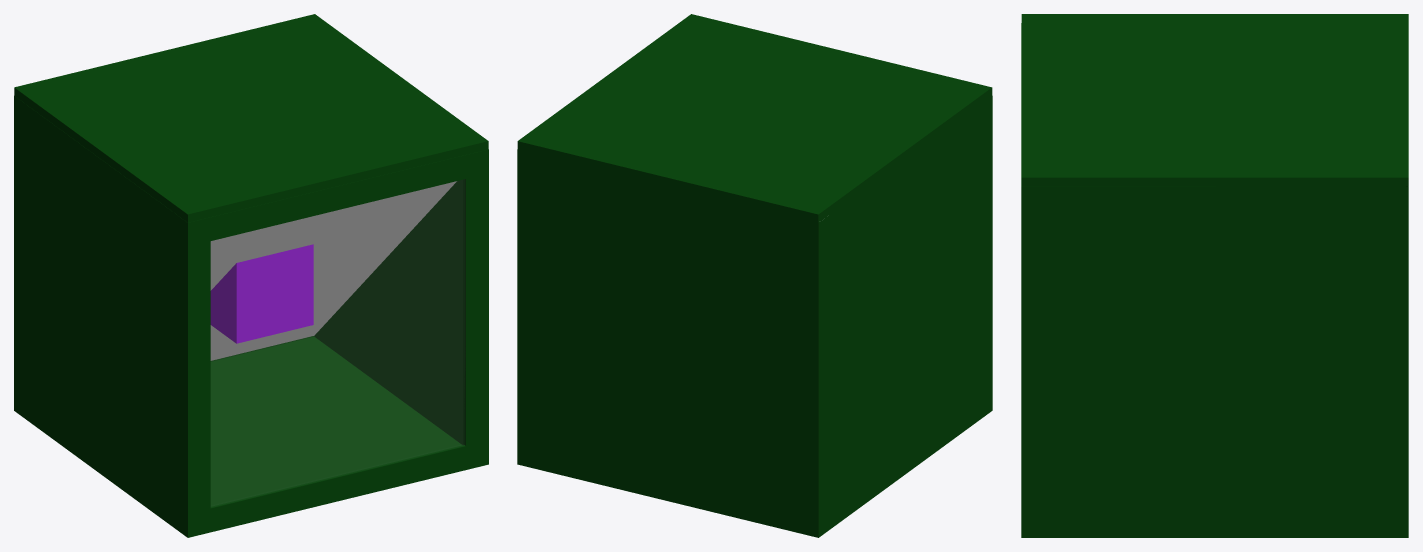
File: Caja magica.fbx
3 renders of one model, left to right at view 1: azimuth 30°, elevation 25°; view 2: azimuth 150°, elevation 25°; view 3: azimuth 270°, elevation 25°, orthographic. The views are drawn at different scales.
Visible parts, largest first — view 1: Caja magica, Tapa caja magica, Espejo caja magica, Cubo Flotante; view 2: Caja magica, Tapa caja magica; view 3: Caja magica, Tapa caja magica.
Boxes of the visible parts, box(x1,y1,x2,y2) form: Caja magica: box(14, 96, 488, 537); Tapa caja magica: box(14, 14, 488, 222); Espejo caja magica: box(210, 181, 456, 360); Cubo Flotante: box(210, 244, 313, 343); Caja magica: box(517, 95, 992, 537); Tapa caja magica: box(517, 14, 992, 222); Caja magica: box(1021, 23, 1408, 537); Tapa caja magica: box(1021, 14, 1408, 186).
Bounding box in the file's own units: 66.05 × 66.05 × 67.78.
